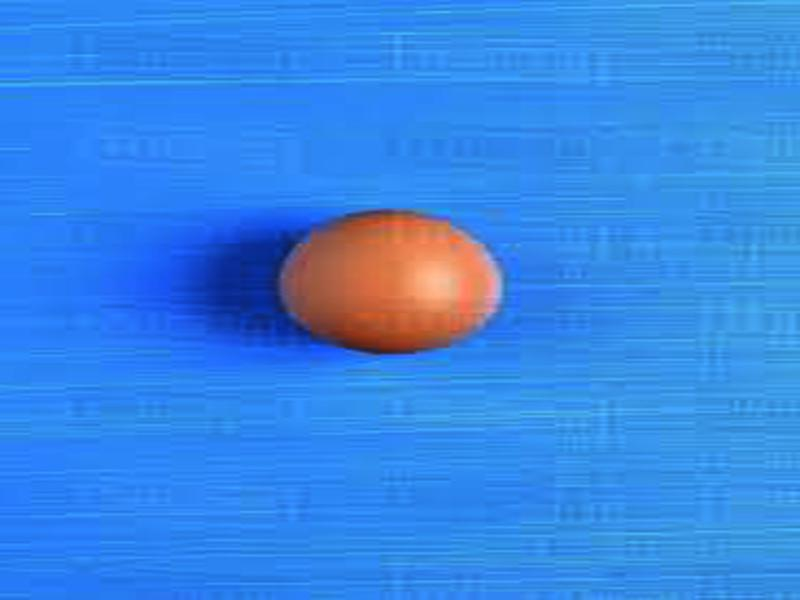Eggs: (270, 211, 506, 352)
